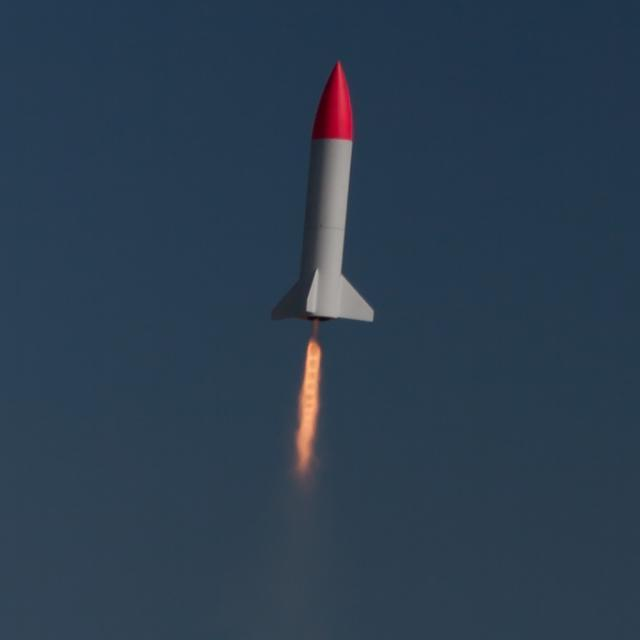Missile: (273, 62, 377, 325)
